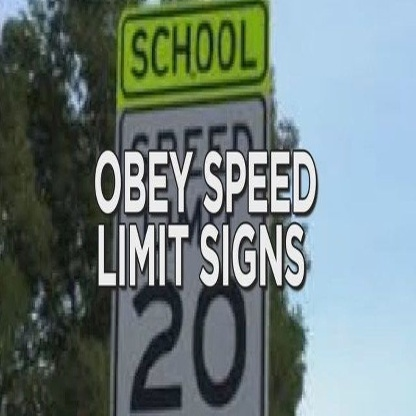limit1: (114, 96, 265, 416)
